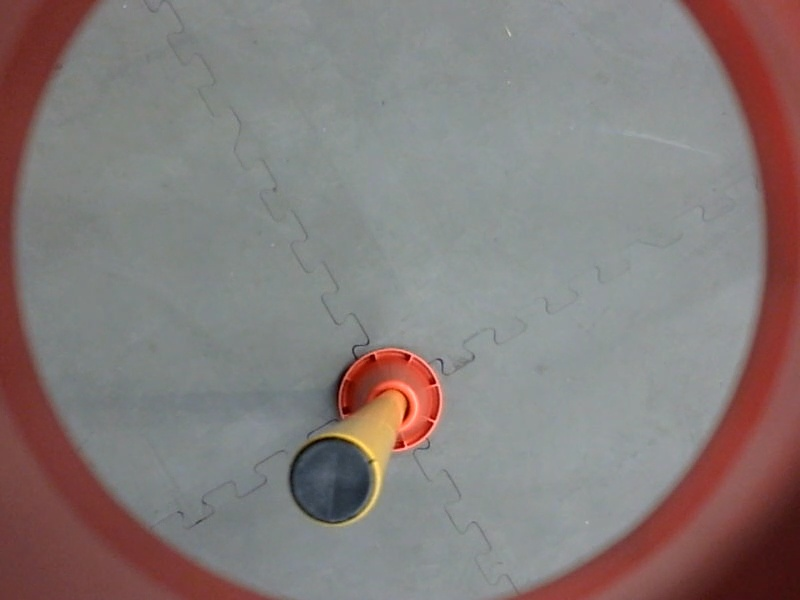tip: (279, 425, 387, 533)
